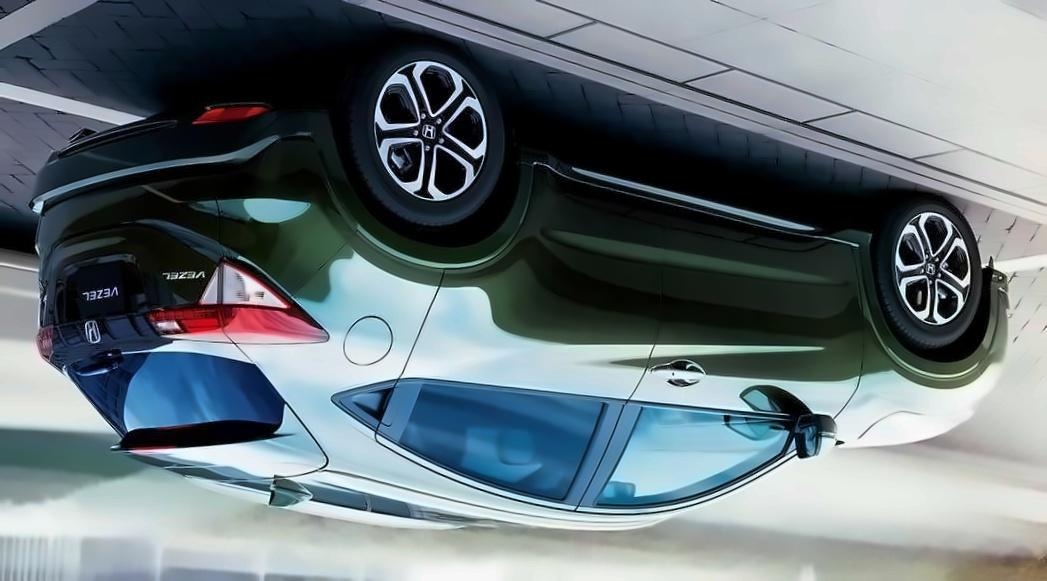Car boot: (26, 162, 317, 472)
Fender - -F-L-: (819, 226, 1002, 448)
Fender - -R-L-: (272, 167, 449, 439)
Passenger-s door - -F-L-: (568, 197, 870, 514)
Passenger-s door - -R-L-: (340, 114, 692, 528)
Rear bumper: (30, 100, 351, 218)
Rear light - -L-: (146, 256, 329, 345)
Side bumper - -L-: (513, 138, 881, 288)
Side mirror - -L-: (786, 407, 845, 462)
